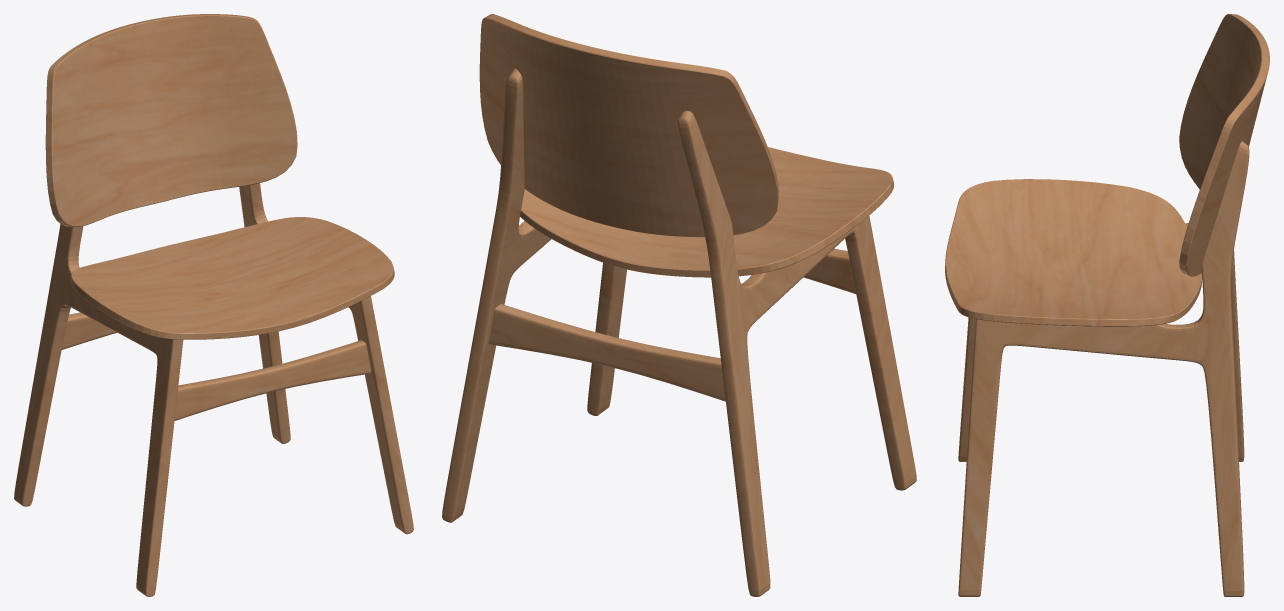
File: chair_jumping.glb
The picture shows the model from 3 angles, left to right: view 1: azimuth 30°, elevation 25°; view 2: azimuth 150°, elevation 25°; view 3: azimuth 270°, elevation 25°; orthographic projection. The views are drawn at different scales.
Parts seen in each view (by area): view 1: Cube; view 2: Cube; view 3: Cube.
Part boxes in pixels (x1=…): Cube: x1=14, y1=14, x2=413, y2=596; Cube: x1=442, y1=14, x2=916, y2=596; Cube: x1=945, y1=14, x2=1269, y2=596.
Bounding box in the file's own units: 2.62 × 4.09 × 2.56.
Materials: 1 (1 with a texture image).
